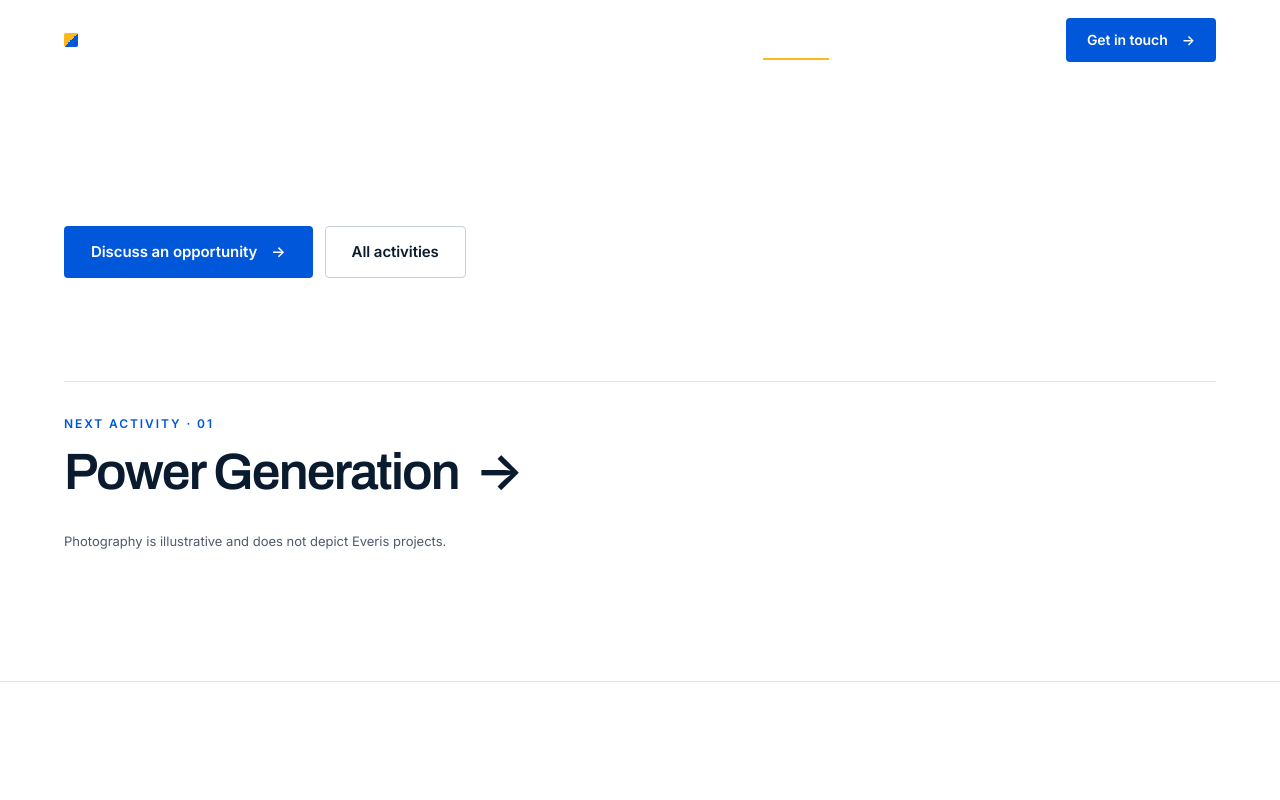
Test: pages › loads an activity page directly and links on to the next one
This screenshot has width=1280, height=800.
(page scrolled)
Click the link "Next activity · 01 Power Generation →": [293, 458] box [64,416,522,500]
(page scrolled)
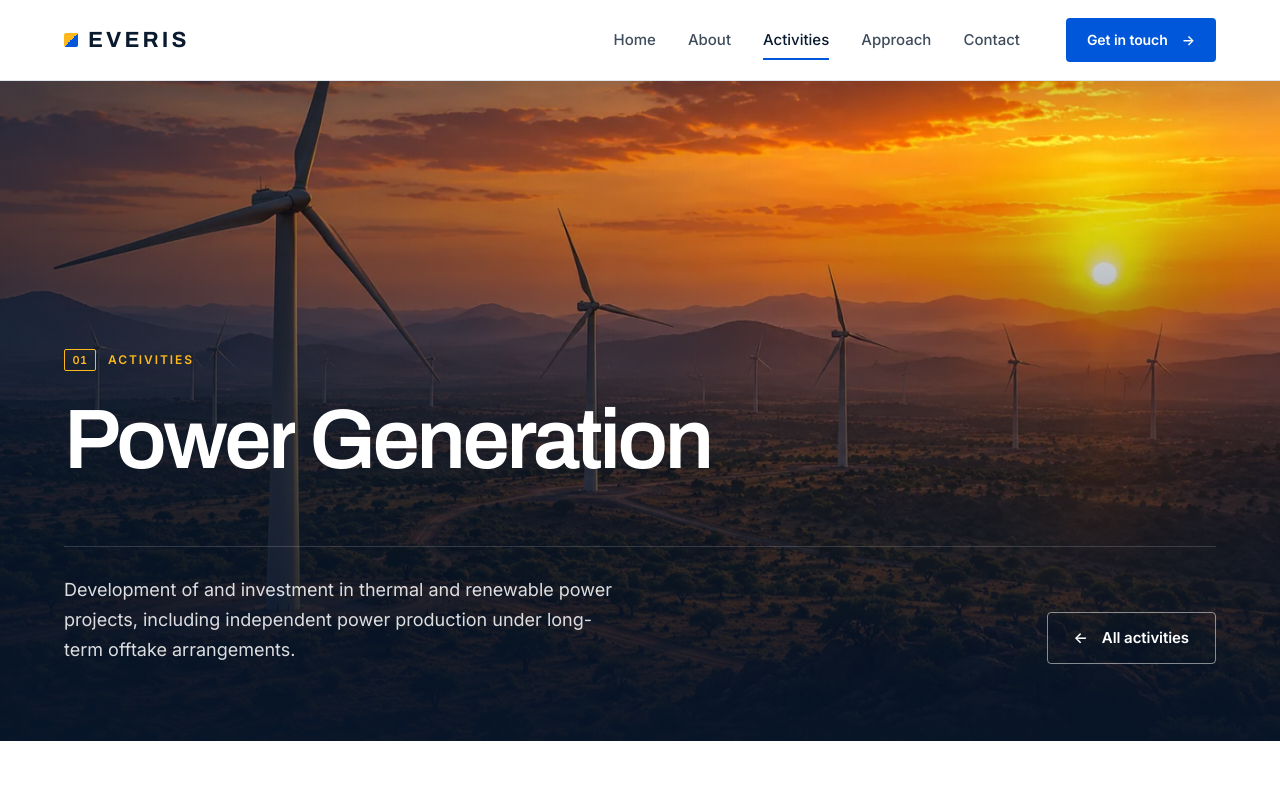
expect the heading reads "Power Generation": met, box [64,399,744,482]
